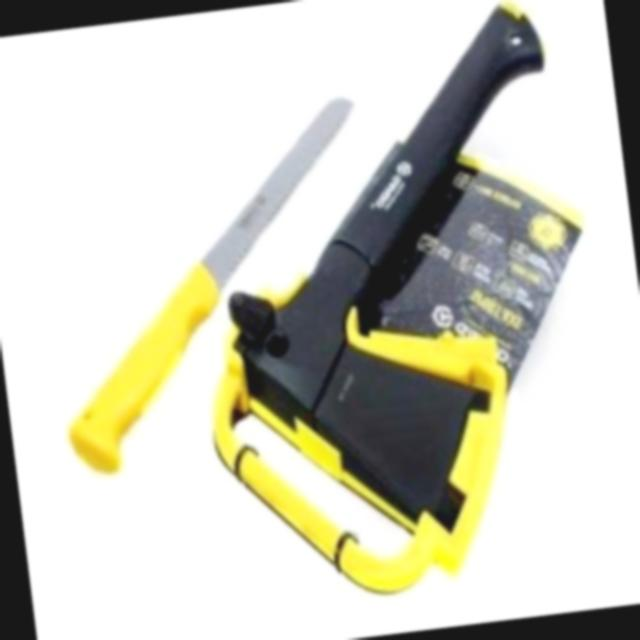ax: (155, 0, 618, 618)
